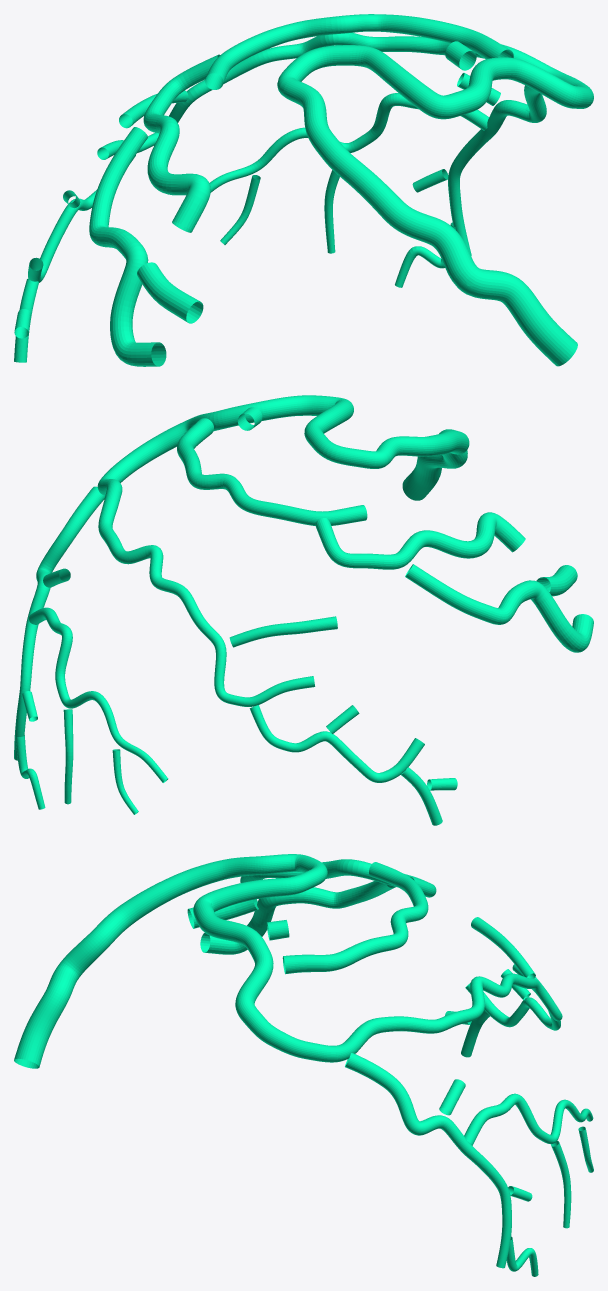
Rendered from example04.glb.
The picture shows the model from 3 angles, top to bottom: view 1: azimuth 30°, elevation 25°; view 2: azimuth 150°, elevation 25°; view 3: azimuth 270°, elevation 25°; orthographic projection. The views are drawn at different scales.
Parts seen in each view (by area): view 1: line_00001, line_00006, line_00002, line_00003, line_00000, line_00004, line_00012, line_00007, line_00010, line_00009, line_00008, line_00005 (+2 smaller); view 2: line_00001, line_00006, line_00003, line_00002, line_00000, line_00004, line_00007, line_00005, line_00009, line_00010, line_00012, line_00008; view 3: line_00001, line_00000, line_00002, line_00006, line_00004, line_00003, line_00007, line_00005, line_00009, line_00012, line_00008.
Part boxes in pixels (x1,y1,x2,y2): line_00001: (97, 32, 593, 366); line_00006: (89, 127, 166, 366); line_00002: (205, 14, 513, 89); line_00003: (143, 54, 219, 232); line_00000: (448, 85, 546, 256); line_00004: (209, 93, 488, 192); line_00012: (137, 262, 203, 323); line_00007: (28, 155, 135, 282); line_00010: (14, 278, 38, 362); line_00009: (324, 170, 339, 253); line_00008: (395, 222, 455, 287); line_00005: (119, 90, 188, 128); line_00001: (97, 395, 469, 706); line_00006: (405, 564, 593, 652); line_00003: (315, 512, 525, 569); line_00002: (177, 418, 367, 525); line_00000: (14, 486, 105, 760); line_00004: (29, 607, 168, 782); line_00007: (249, 705, 424, 782); line_00005: (229, 616, 337, 647); line_00009: (63, 709, 73, 804); line_00010: (401, 767, 442, 825); line_00012: (536, 565, 577, 596); line_00008: (15, 735, 45, 809); line_00001: (14, 854, 562, 1068); line_00000: (345, 1053, 511, 1268); line_00002: (282, 862, 428, 974); line_00006: (200, 881, 395, 954); line_00004: (464, 1093, 593, 1145); line_00003: (240, 859, 436, 897); line_00007: (465, 983, 560, 1030); line_00005: (471, 917, 535, 978); line_00009: (551, 1141, 571, 1228); line_00012: (187, 899, 258, 928); line_00008: (506, 1236, 538, 1276).
Bounding box in the file's own units: 3.95 × 2.74 × 4.4.
